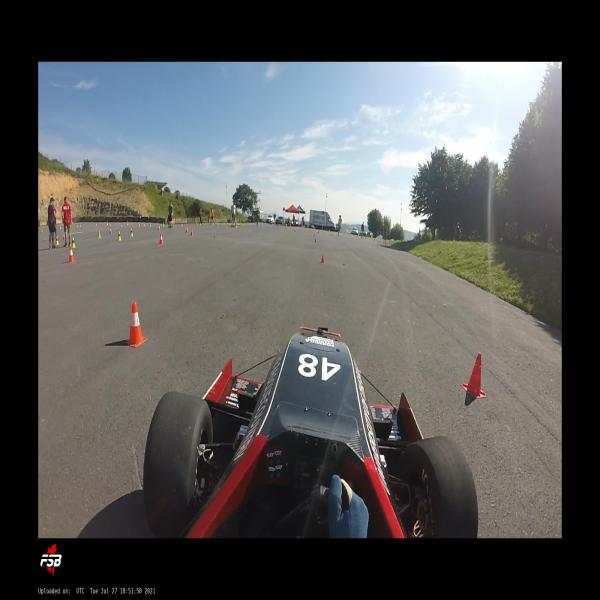orange_cone: (462, 352, 485, 398), (125, 302, 147, 348), (69, 246, 75, 262), (320, 254, 325, 263), (159, 233, 163, 244), (62, 233, 65, 241), (190, 228, 193, 236), (109, 227, 112, 234), (185, 226, 188, 233), (314, 237, 317, 243), (144, 222, 146, 228), (158, 225, 160, 231)
yellow_cone: (72, 237, 76, 248), (56, 235, 60, 245), (130, 228, 134, 237), (118, 231, 121, 241), (98, 230, 101, 238), (150, 223, 152, 227)
